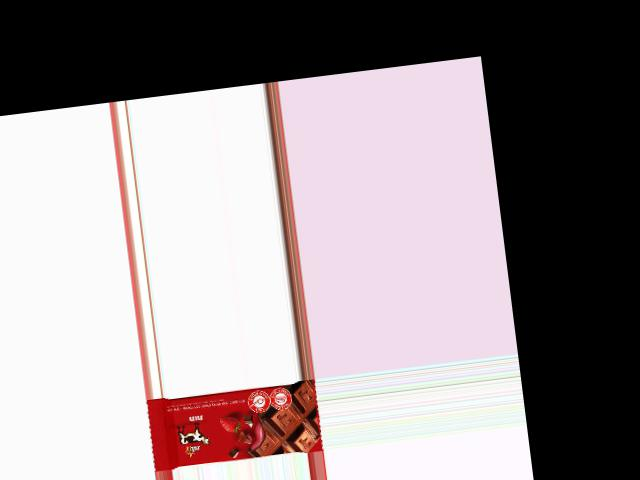chocolate: (145, 378, 321, 471)
